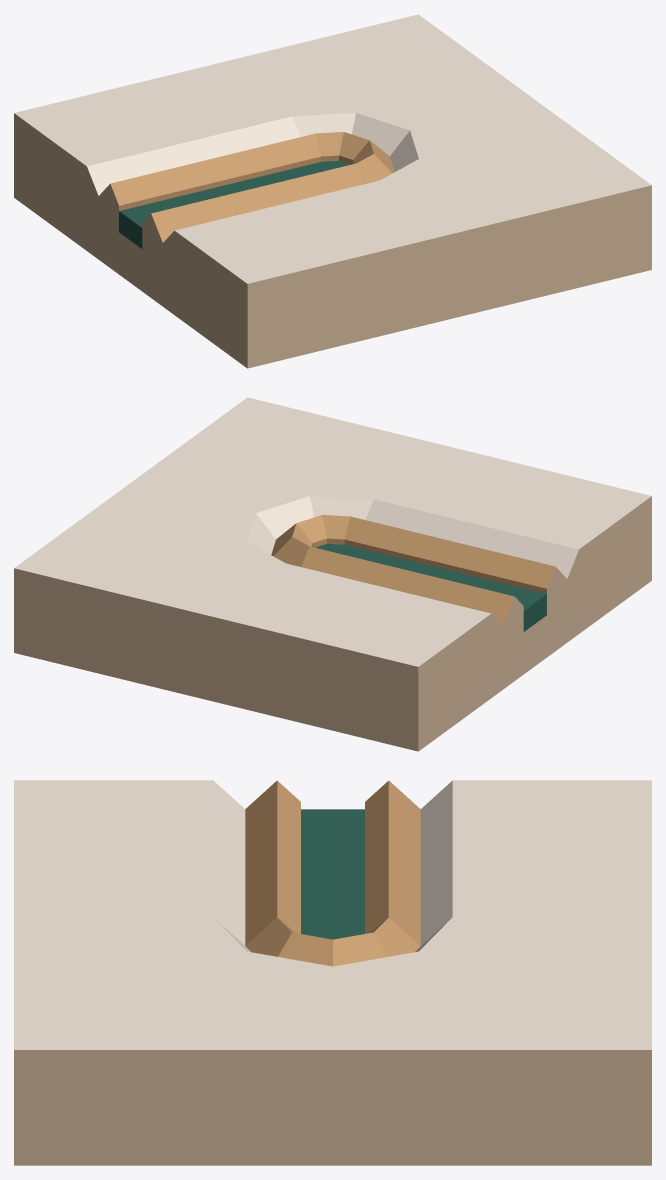
The model's file is Puzzle_Floor_Conduit_Standard_End.obj.
3 views of the same model, one above another, from view 1: azimuth 30°, elevation 25°; view 2: azimuth 150°, elevation 25°; view 3: azimuth 270°, elevation 25° (orthographic). The views are drawn at different scales.
Parts seen in each view (by area): view 1: object2, object1; view 2: object2, object1; view 3: object2, object1.
Part boxes in pixels (x1,y1,x2,y2): object2: (14,14,651,368); object1: (119,160,350,248); object2: (14,397,651,751); object1: (315,543,546,631); object2: (14,780,651,1165); object1: (301,809,364,939).
Bounding box in the file's own units: 1 × 0.2 × 1.
